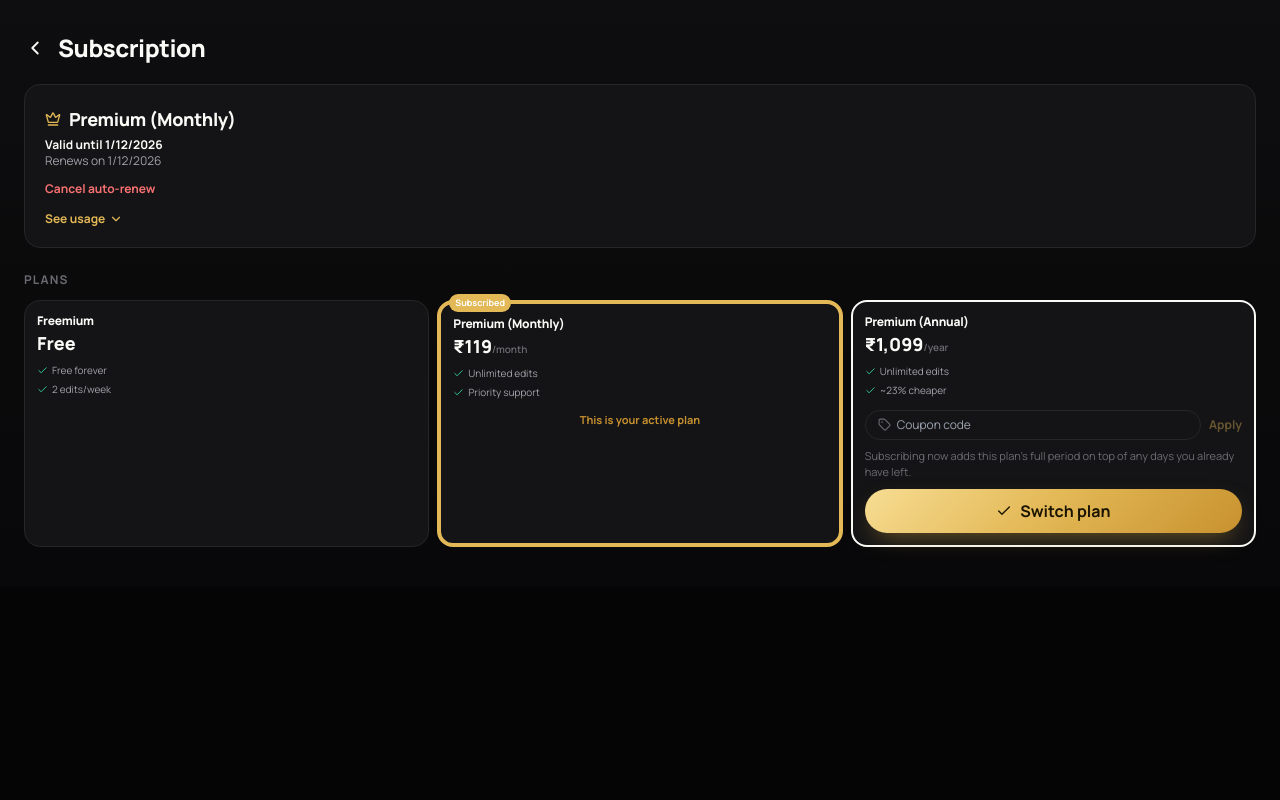
Test: Subscription screen › asks for confirmation before cancelling, then cancels and refreshes entitlements
Later steps or results of the test are not shown.
Click the button with test id "subscription-cancel-btn" at x=100, y=189, box [45,181,155,197]
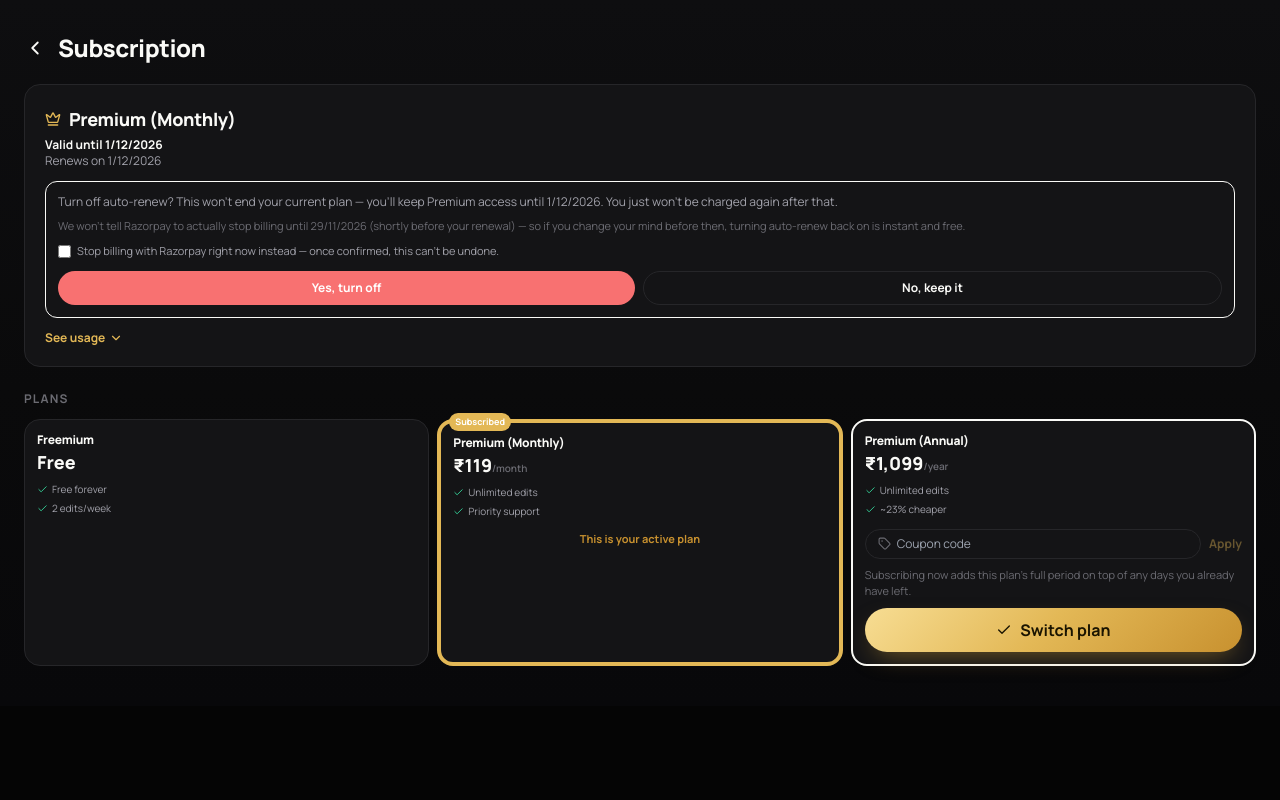
Result: the element with test id "subscription-cancel-confirm" is shown at [45,181,1235,318]
